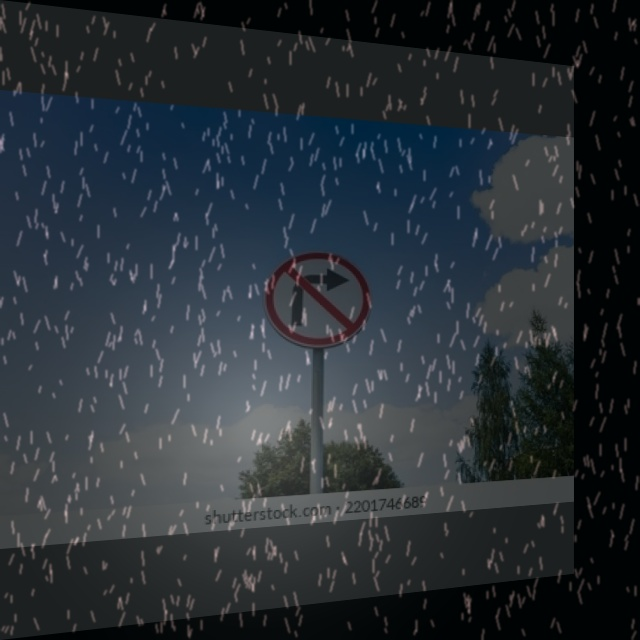Right_Turn_Prohibited: (264, 248, 371, 351)
